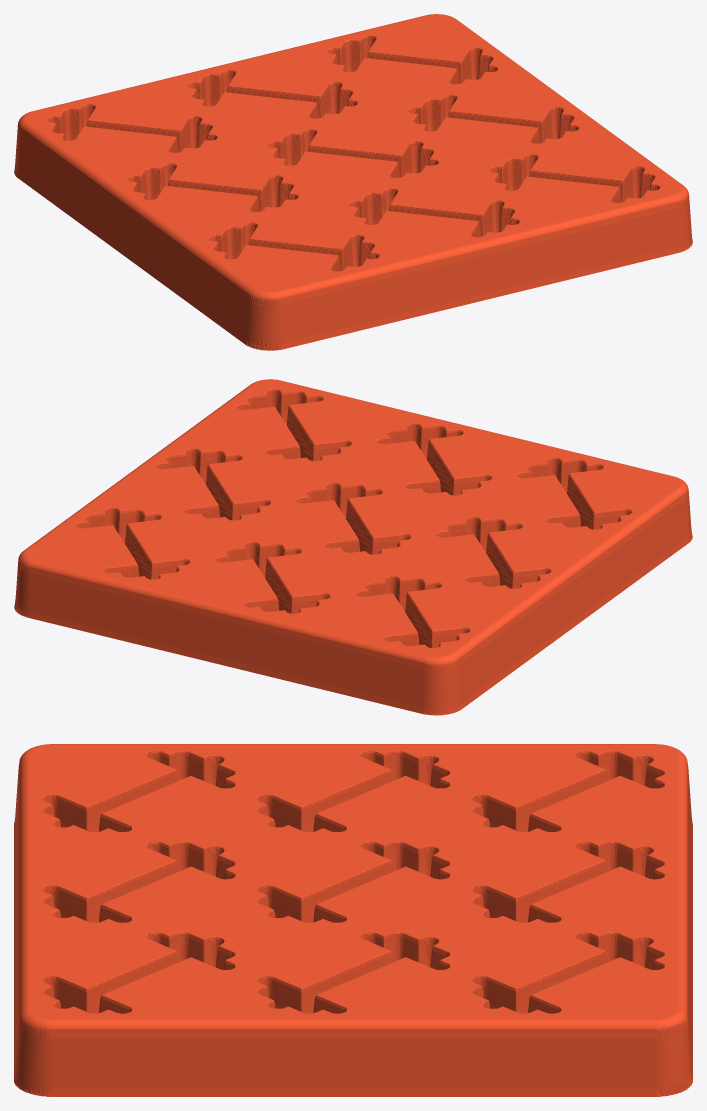
File: mold.glb
The picture shows the model from 3 angles, top to bottom: view 1: azimuth 30°, elevation 25°; view 2: azimuth 150°, elevation 25°; view 3: azimuth 270°, elevation 25°; orthographic projection. The views are drawn at different scales.
Parts seen in each view (by area): view 1: geometry_0; view 2: geometry_0; view 3: geometry_0.
Part boxes in pixels (x1,y1,x2,y2): geometry_0: [14, 14, 692, 350]; geometry_0: [14, 379, 692, 715]; geometry_0: [14, 744, 692, 1096].
Size of the model in its own units: 0.1595 by 0.0185 by 0.1595.
